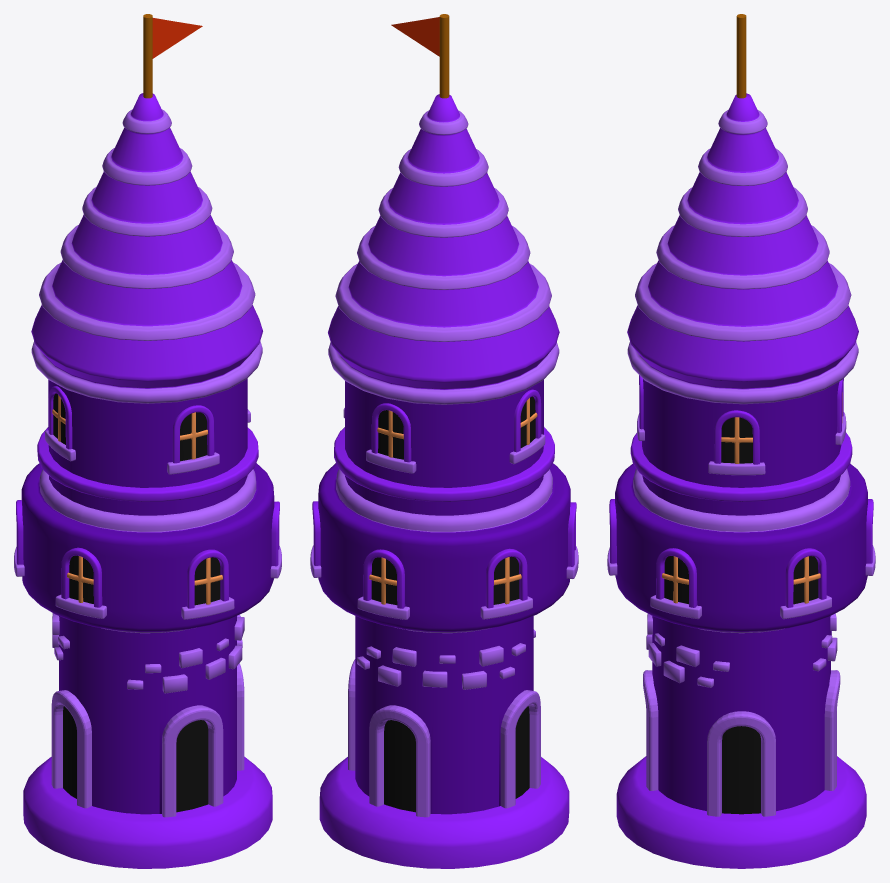
File: tower 1.fbx
3 renders of one model, left to right at view 1: azimuth 30°, elevation 25°; view 2: azimuth 150°, elevation 25°; view 3: azimuth 270°, elevation 25°, orthographic.
Visible parts, largest first — view 1: cylinder.077; view 2: cylinder.077; view 3: cylinder.077.
Part boxes in pixels (bbox=[...]): cylinder.077: bbox=[14, 14, 281, 868]; cylinder.077: bbox=[310, 14, 578, 868]; cylinder.077: bbox=[607, 14, 875, 868].
Size of the model in its own units: 201 by 696 by 211.
Materials: 1 (1 with a texture image).
